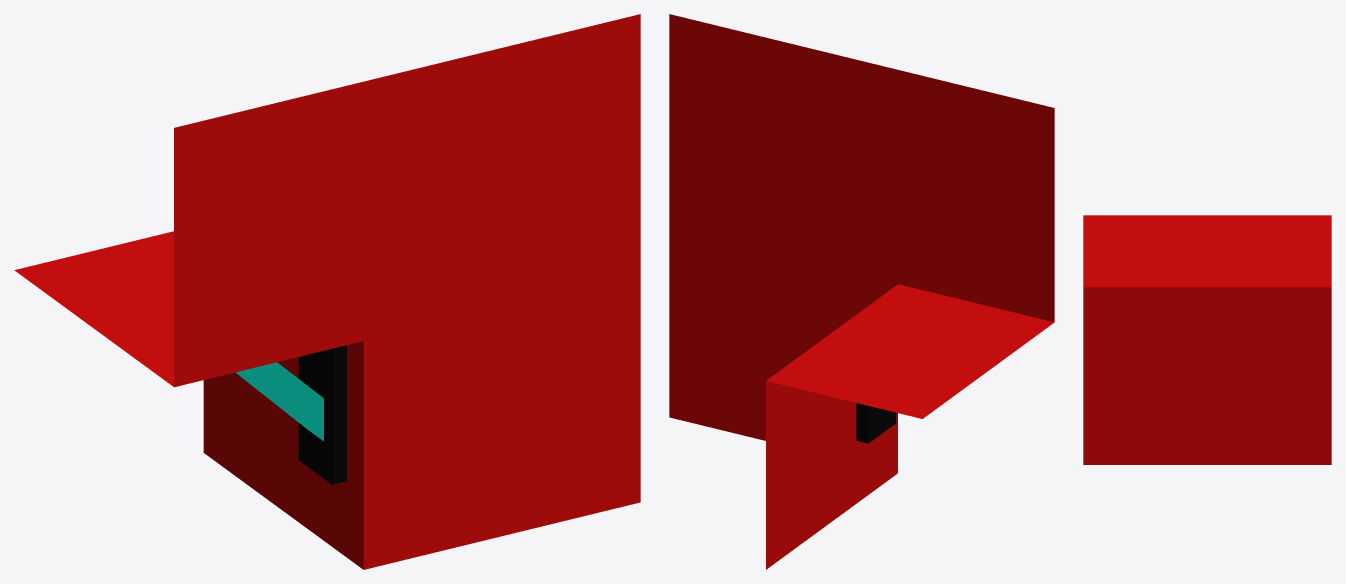
The picture shows the model from 3 angles, left to right: view 1: azimuth 30°, elevation 25°; view 2: azimuth 150°, elevation 25°; view 3: azimuth 270°, elevation 25°; orthographic projection. The views are drawn at different scales.
Parts seen in each view (by area): view 1: None_A_E_A_E_E_E_A_E_None; view 2: None_A_E_A_E_E_E_A_E_None; view 3: None_A_E_A_E_E_E_A_E_None.
Boxes of the visible parts, x1,y1,x2,y2 form: None_A_E_A_E_E_E_A_E_None: (14,14,640,569); None_A_E_A_E_E_E_A_E_None: (669,14,1054,569); None_A_E_A_E_E_E_A_E_None: (1083,215,1331,464).
Bounding box in the file's own units: 100 × 100 × 59.38.
